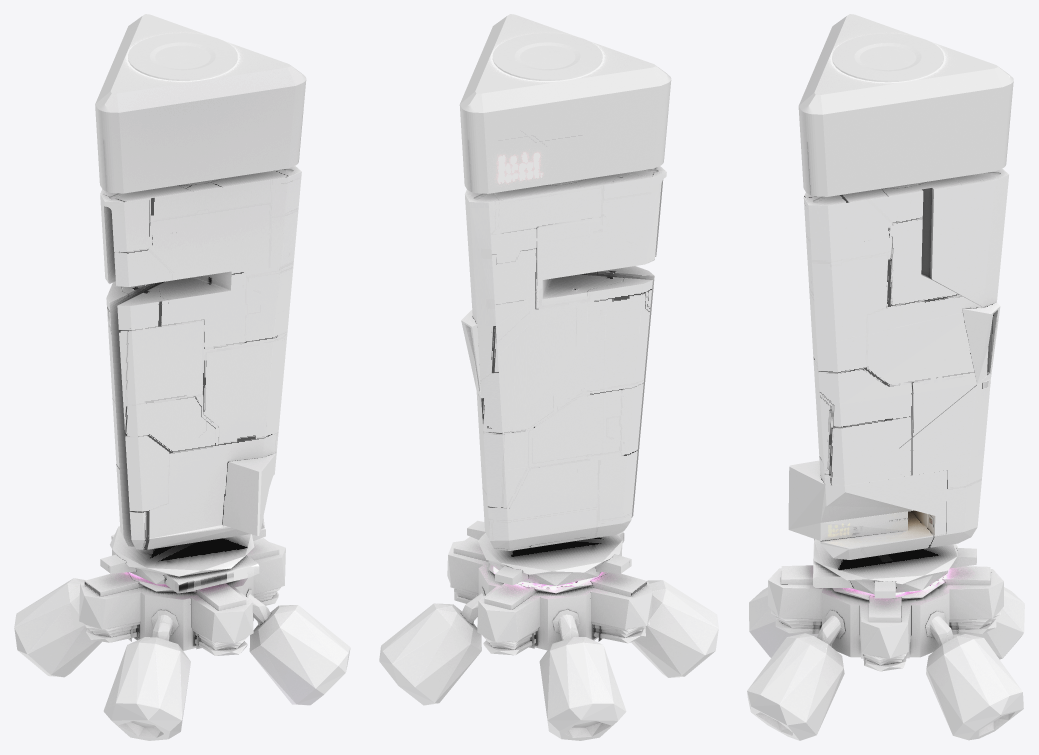
Rendered from Building_Test.glb.
3 views of the same model, side by side, from view 1: azimuth 30°, elevation 25°; view 2: azimuth 150°, elevation 25°; view 3: azimuth 270°, elevation 25° (orthographic).
Parts seen in each view (by area): view 1: 大楼主体, 大楼主体.001, 顶盖; view 2: 大楼主体, 大楼主体.001, 顶盖; view 3: 大楼主体, 大楼主体.001, 顶盖.
Part boxes in pixels (left/top/right/bottom): 大楼主体: left=100, top=166, right=301, bottom=549; 大楼主体.001: left=14, top=526, right=350, bottom=740; 顶盖: left=95, top=14, right=306, bottom=193; 大楼主体: left=461, top=166, right=666, bottom=550; 大楼主体.001: left=379, top=520, right=718, bottom=740; 顶盖: left=459, top=14, right=671, bottom=193; 大楼主体: left=788, top=168, right=1008, bottom=559; 大楼主体.001: left=747, top=539, right=1024, bottom=740; 顶盖: left=798, top=14, right=1013, bottom=196.
Bounding box in the file's own units: 56.24 × 143 × 56.32.
Materials: 2 (2 with a texture image).
